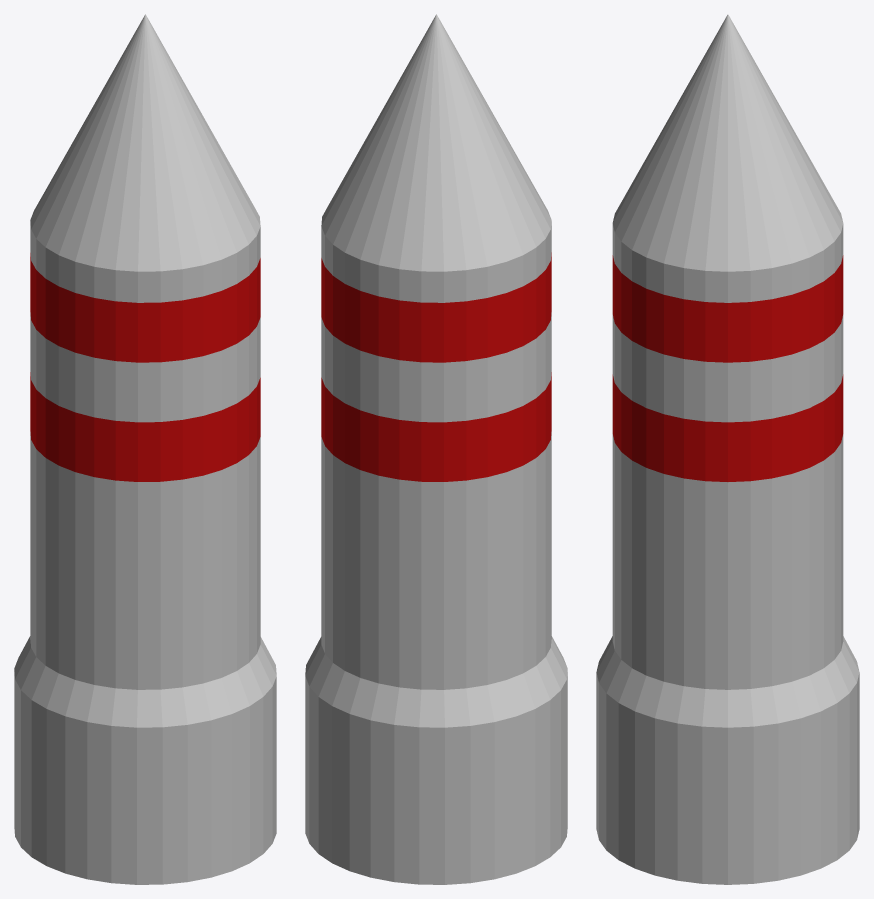
The model's file is missil.fbx.
3 views of the same model, side by side, from view 1: azimuth 30°, elevation 25°; view 2: azimuth 150°, elevation 25°; view 3: azimuth 270°, elevation 25° (orthographic).
Visible parts, largest first — view 1: Cone; view 2: Cone; view 3: Cone.
Part boxes in pixels (box(x1,y1,x2,y2)): Cone: box(14, 14, 276, 884); Cone: box(305, 14, 567, 884); Cone: box(596, 14, 859, 884).
Size of the model in its own units: 228 by 780 by 228.
